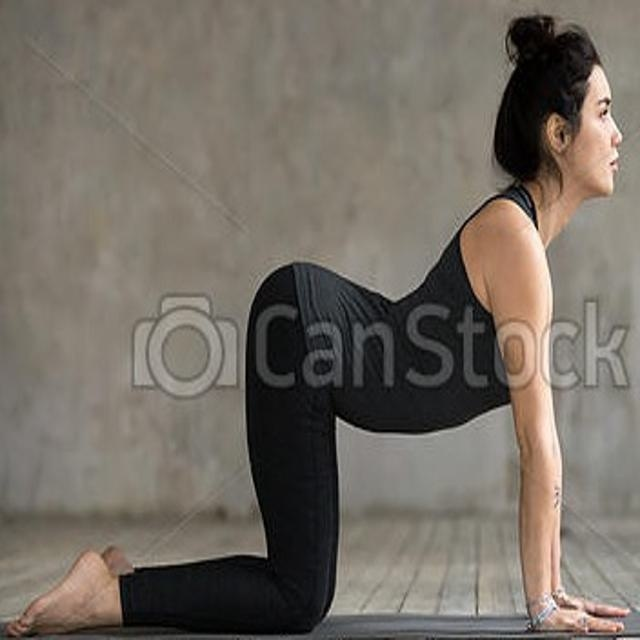Cow_Pose: (14, 28, 631, 632)
